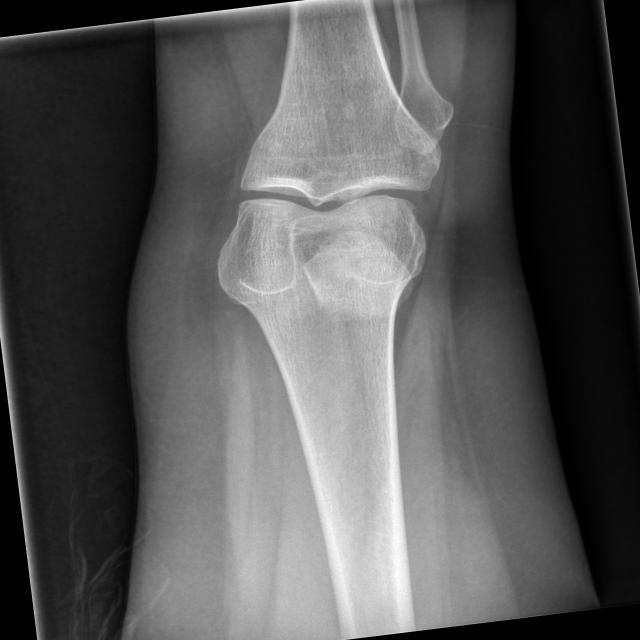Knee: (198, 104, 459, 309)
